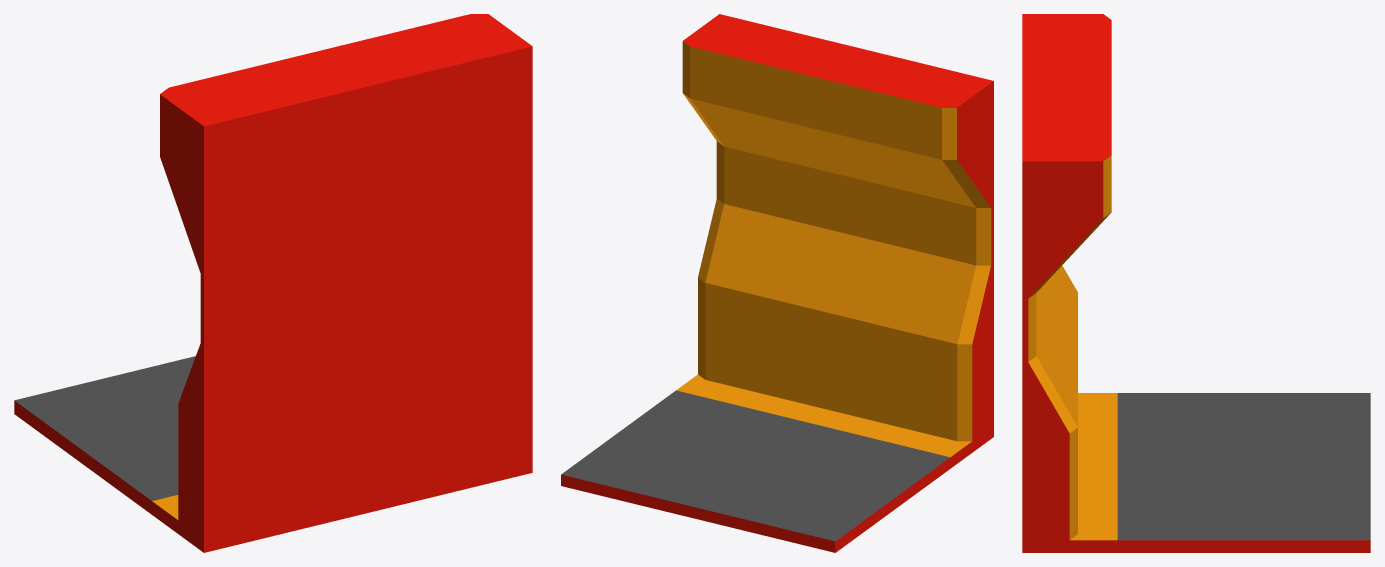
The picture shows the model from 3 angles, left to right: view 1: azimuth 30°, elevation 25°; view 2: azimuth 150°, elevation 25°; view 3: azimuth 270°, elevation 25°; orthographic projection. The views are drawn at different scales.
Parts seen in each view (by area): view 1: S15; view 2: S15; view 3: S15.
Part boxes in pixels (x1,y1,x2,y2): S15: [14, 14, 532, 552]; S15: [561, 14, 993, 552]; S15: [1022, 14, 1370, 552].
Size of the model in its own units: 200 by 248 by 200.
